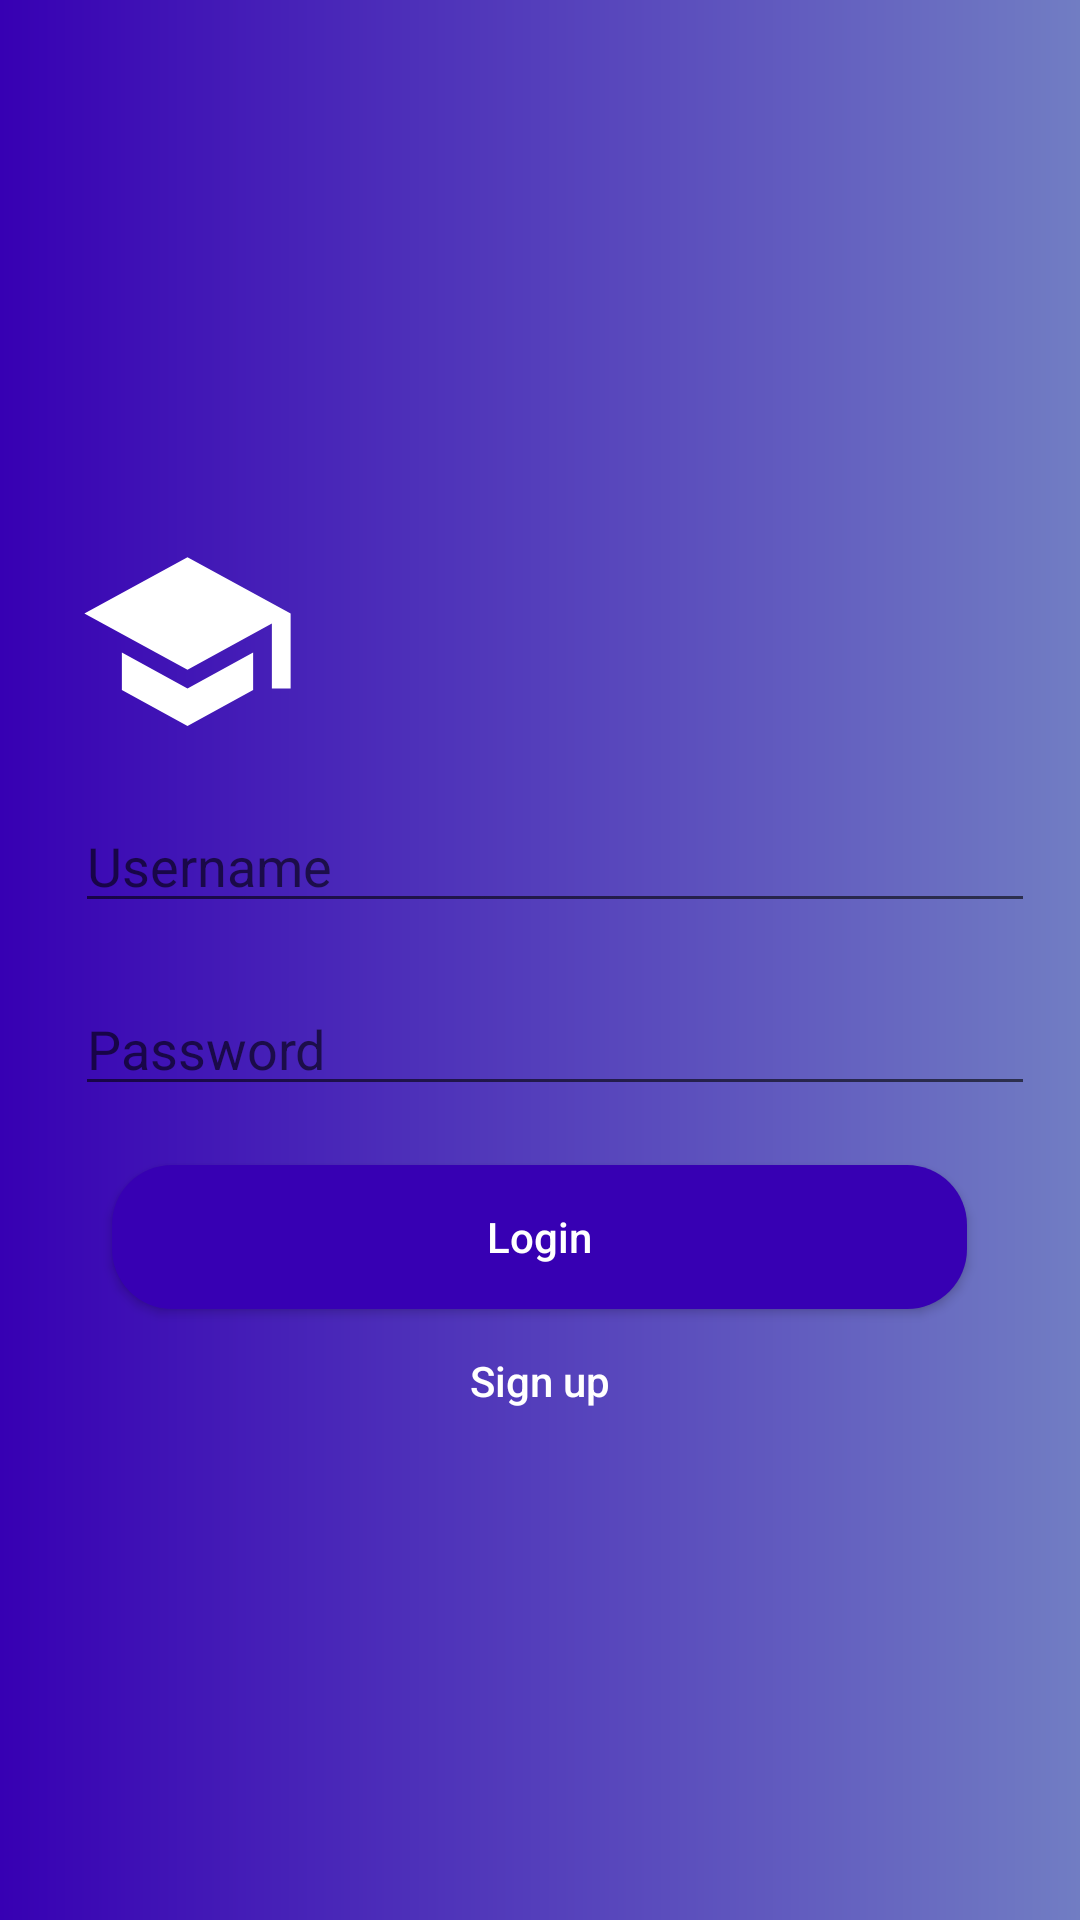

Icons on this 1080px×1920px Android screen, each with the point to tap as (x=x, y=y):
school: (x=192, y=641)
